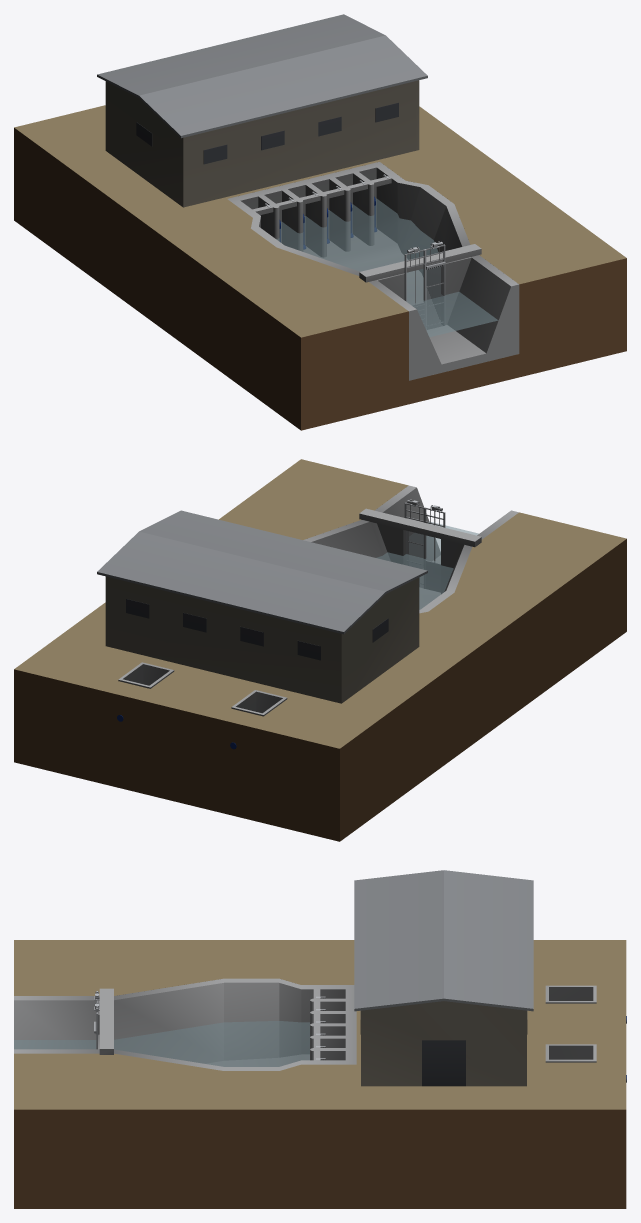
3 views of the same model, one above another, from view 1: azimuth 30°, elevation 25°; view 2: azimuth 150°, elevation 25°; view 3: azimuth 270°, elevation 25° (orthographic). The views are drawn at different scales.
Parts seen in each view (by area): view 1: STATIC__SOIL, STATIC__CIVIL, STATIC__BLD-ROOF, STATIC__BLD-WALL-S, BASIN-01, STATIC__BLD-WALL-W, RACK-01__RACK__BARS, STATIC__BLD-WALL-S__WIN; view 2: STATIC__SOIL, STATIC__BLD-ROOF, STATIC__BLD-WALL-N, STATIC__CIVIL, STATIC__BLD-WALL-W, BASIN-01, STATIC__FM-PIT, STATIC__BLD-WALL-N__WIN, RACK-01__RACK__BARS; view 3: STATIC__SOIL, STATIC__CIVIL, STATIC__BLD-ROOF, STATIC__BLD-WALL-E, BASIN-01, STATIC__BLD-WALL-E__WIN, STATIC__FM-PIT.
Boxes of the visible parts, x1=… form: STATIC__SOIL: x1=14, y1=105, x2=626, y2=430; STATIC__CIVIL: x1=227, y1=161, x2=519, y2=380; STATIC__BLD-ROOF: x1=97, y1=14, x2=427, y2=138; STATIC__BLD-WALL-S: x1=187, y1=81, x2=415, y2=206; BASIN-01: x1=276, y1=198, x2=498, y2=336; STATIC__BLD-WALL-W: x1=105, y1=81, x2=186, y2=207; RACK-01__RACK__BARS: x1=424, y1=241, x2=445, y2=329; STATIC__BLD-WALL-S__WIN: x1=203, y1=102, x2=398, y2=164; STATIC__SOIL: x1=14, y1=459, x2=626, y2=841; STATIC__BLD-ROOF: x1=97, y1=510, x2=427, y2=634; STATIC__BLD-WALL-N: x1=109, y1=577, x2=337, y2=702; STATIC__CIVIL: x1=303, y1=485, x2=518, y2=613; STATIC__BLD-WALL-W: x1=338, y1=577, x2=419, y2=703; BASIN-01: x1=377, y1=521, x2=478, y2=609; STATIC__FM-PIT: x1=118, y1=662, x2=287, y2=716; STATIC__BLD-WALL-N__WIN: x1=126, y1=599, x2=320, y2=660; RACK-01__RACK__BARS: x1=404, y1=499, x2=425, y2=588; STATIC__SOIL: x1=14, y1=940, x2=626, y2=1208; STATIC__CIVIL: x1=14, y1=978, x2=356, y2=1070; STATIC__BLD-ROOF: x1=354, y1=870, x2=533, y2=1011; STATIC__BLD-WALL-E: x1=361, y1=1001, x2=526, y2=1086; BASIN-01: x1=14, y1=1021, x2=309, y2=1066; STATIC__BLD-WALL-E__WIN: x1=422, y1=1040, x2=465, y2=1086; STATIC__FM-PIT: x1=545, y1=985, x2=596, y2=1062.
Bounding box in the file's own units: 36.3 × 18.93 × 55.45.
